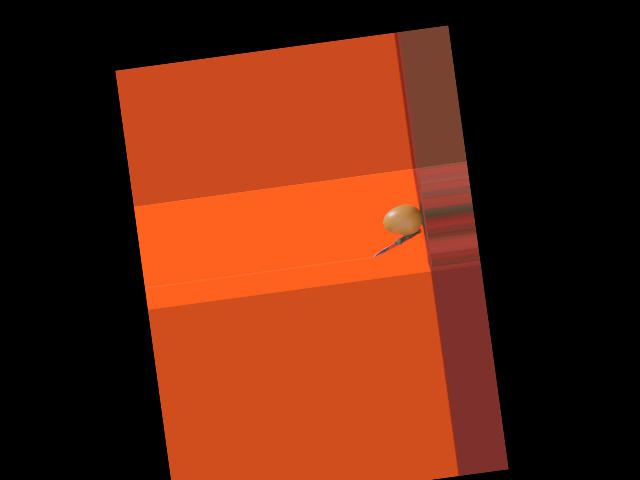egg: (382, 203, 424, 237)
